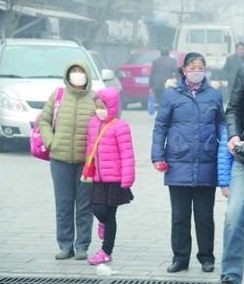person: (151, 52, 220, 274), (31, 58, 97, 260), (80, 86, 135, 266), (219, 66, 244, 281), (151, 43, 179, 106), (222, 42, 244, 82)
